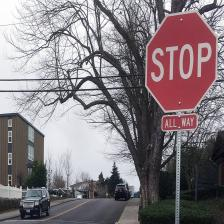Stop-sign: (141, 7, 220, 135)
